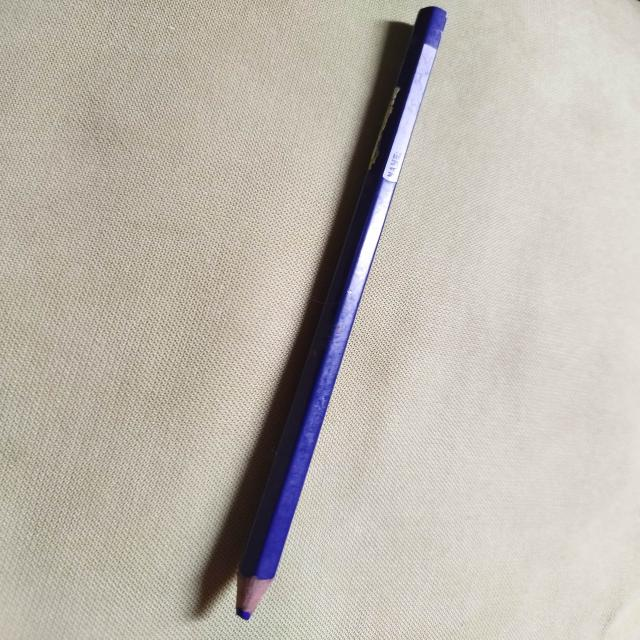pencil: (234, 6, 446, 621)
